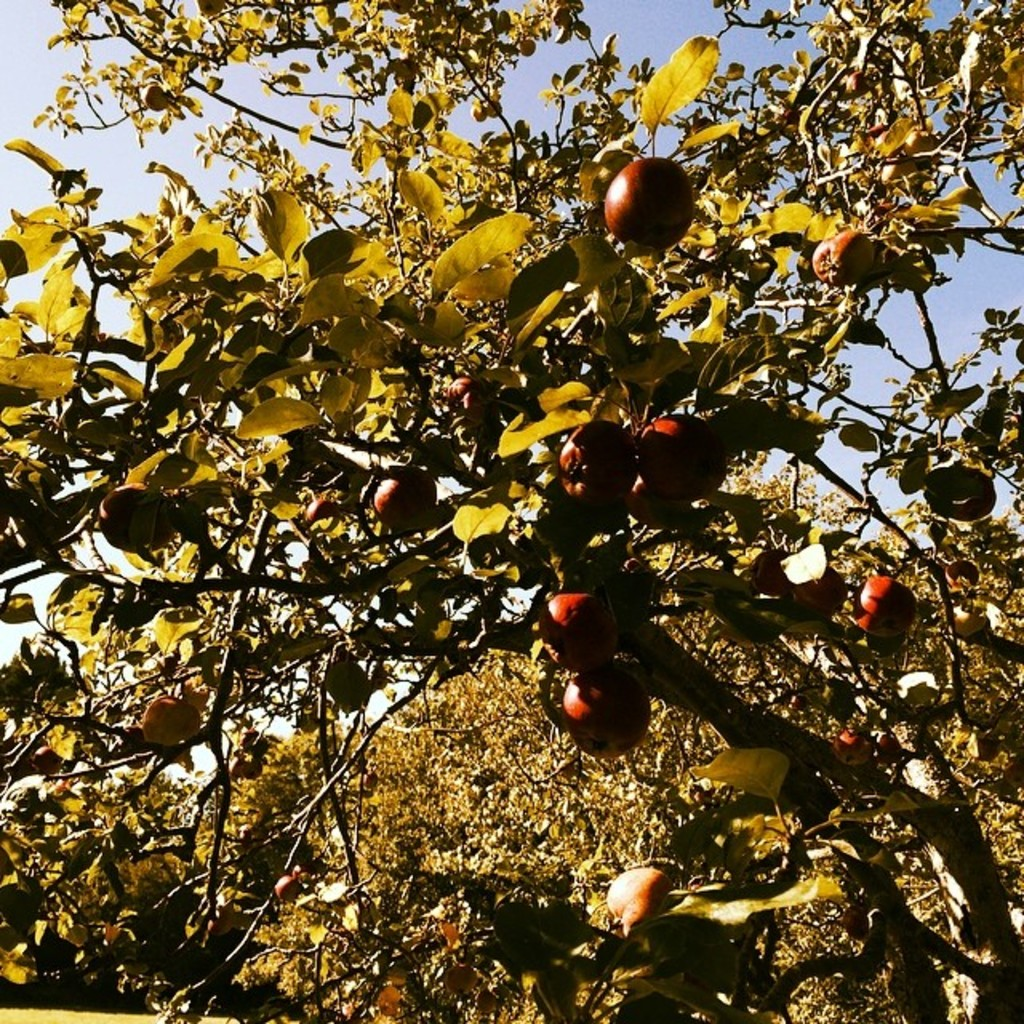Apple: (536, 412, 729, 758), (604, 139, 707, 235), (364, 465, 433, 532), (604, 871, 672, 934), (851, 574, 918, 635), (142, 692, 209, 752), (811, 225, 873, 284), (787, 566, 844, 615), (750, 550, 790, 593), (948, 596, 990, 636), (198, 891, 238, 931), (833, 726, 871, 760), (900, 128, 935, 164), (25, 743, 62, 774), (944, 560, 982, 590), (304, 499, 345, 526), (867, 736, 899, 768), (270, 873, 300, 902), (880, 156, 910, 185), (292, 864, 310, 880)
